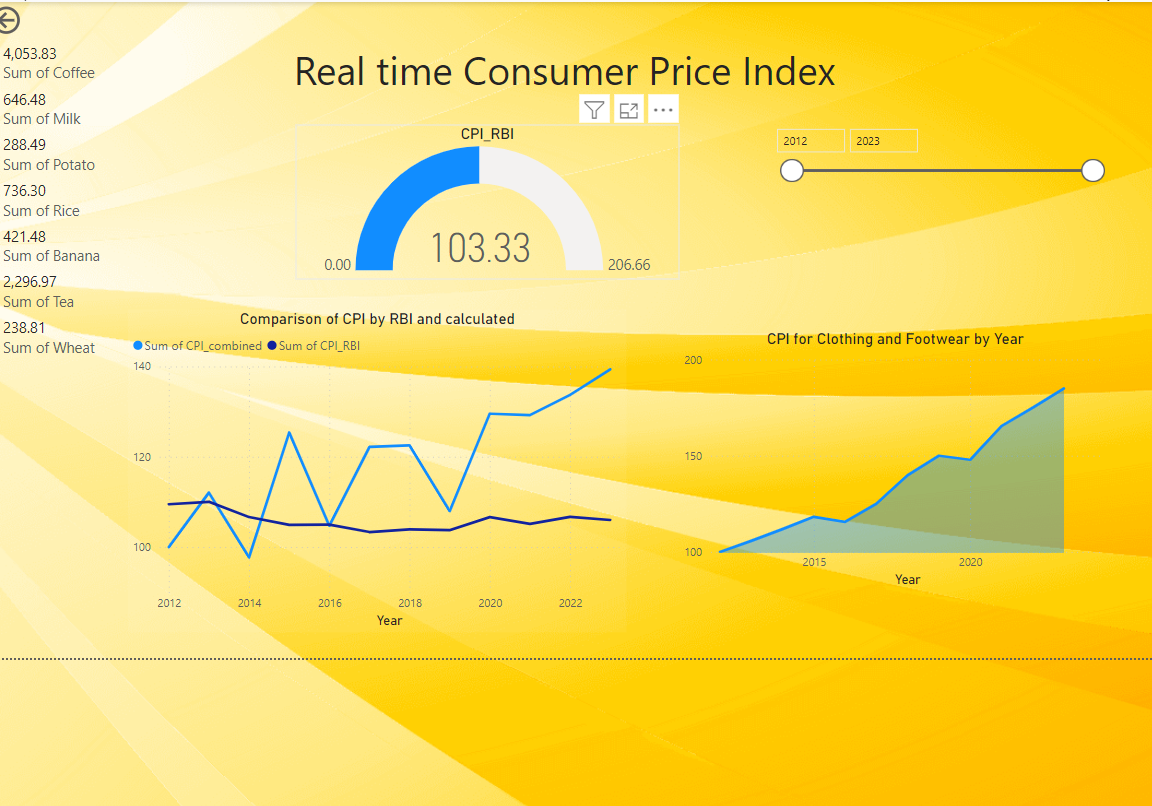

This screenshot's page, from the dashboard's own definition file:
{"tool":"powerbi","page":{"name":"Page 2","canvas":[1280,720],"ordinal":1},"visuals":[{"type":"areaChart","title":"CPI for Clothing and Footwear by Year","fields":{"Category":["cpi_pan_miscellenouss_2012_to_2.Year"],"Y":["Sum(cpi_pan_miscellenouss_2012_to_2.CPI for Clothing and Footwear)"]},"box":[758.8,359.5,474.8,288.2],"z":0},{"type":"actionButton","box":[0,0,100,40],"z":1000},{"type":"textbox","box":[330.7,39.8,665.5,89.2],"z":2000},{"type":"multiRowCard","fields":{"Values":["Sum(food_and_beverage_prices.Coffee)","Sum(food_and_beverage_prices.Milk)","Sum(food_and_beverage_prices.Potato)","Sum(food_and_beverage_prices.Rice)","Sum(food_and_beverage_prices.Banana)","Sum(food_and_beverage_prices.Tea)","Sum(food_and_beverage_prices.Wheat)"]},"box":[0,39.8,178.4,359.5],"z":3000},{"type":"slicer","fields":{"Values":["food_and_beverage_prices.Year"]},"box":[853.5,129,380.1,86.4],"z":4000},{"type":"lineChart","title":"Comparison of CPI by RBI and calculated ","fields":{"Category":["food_and_beverage_prices.Year"],"Y":["Sum(cpi_pan_miscellenouss_2012_to_2.CPI_combined)","Sum(Sheet1 (2).CPI_RBI)"]},"box":[153.7,337.6,547.5,354],"z":5000},{"type":"gauge","title":"CPI_RBI","fields":{"Y":["Min(Sheet1 (2).CPI_RBI)"]},"box":[337.6,134.5,421.3,170.2],"z":6000}]}

Visuals, with their boxes on the page's 1280x720 design canvas (x1, y1, x2, y2). These are canvas units, not pixel positions in the 1152x806 screenshot, which may show the page scaled, cropped or inside an application window:
"CPI for Clothing and Footwear by Year" areaChart: <box>759,360,1234,648</box>
actionButton: <box>0,0,100,40</box>
textbox: <box>331,40,996,129</box>
multiRowCard - Sum(food_and_beverage_prices.Coffee) x Sum(food_and_beverage_prices.Milk): <box>0,40,178,399</box>
slicer - food_and_beverage_prices.Year: <box>854,129,1234,215</box>
"Comparison of CPI by RBI and calculated " lineChart: <box>154,338,701,692</box>
"CPI_RBI" gauge: <box>338,134,759,305</box>
